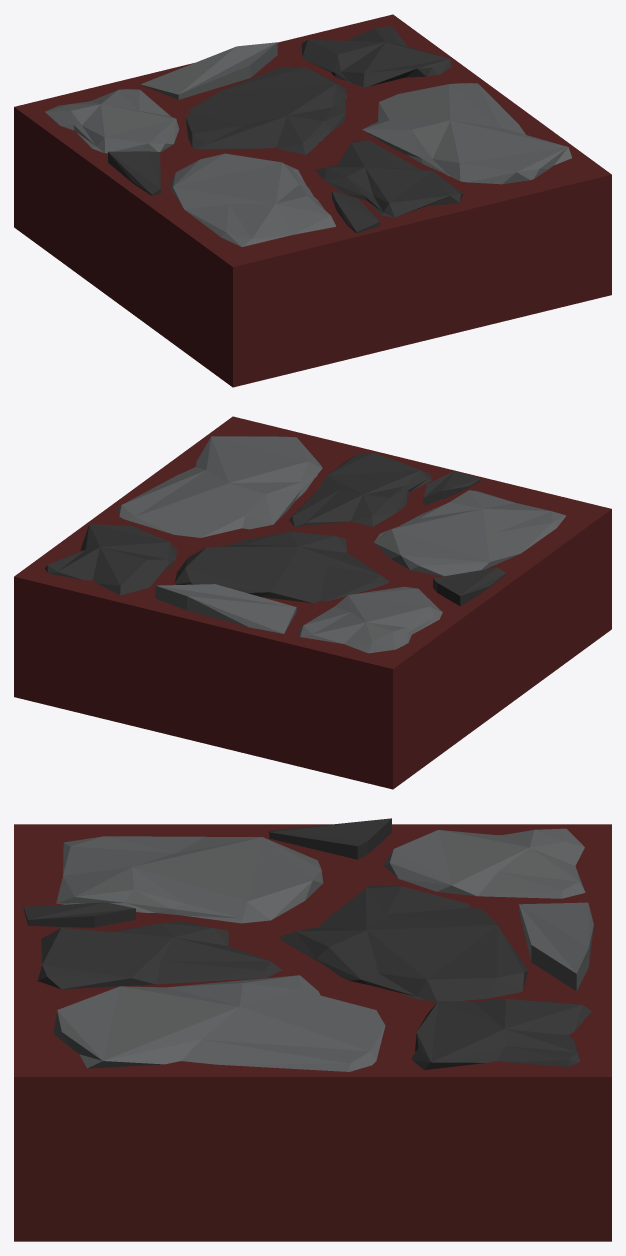
The model's file is Ground_Tiles_Large_06.FBX.
The picture shows the model from 3 angles, top to bottom: view 1: azimuth 30°, elevation 25°; view 2: azimuth 150°, elevation 25°; view 3: azimuth 270°, elevation 25°; orthographic projection. The views are drawn at different scales.
Visible parts, largest first — view 1: Ground_Tiles_Large_06; view 2: Ground_Tiles_Large_06; view 3: Ground_Tiles_Large_06.
Boxes of the visible parts, left/top/right/bottom form: Ground_Tiles_Large_06: left=14, top=14, right=611, bottom=387; Ground_Tiles_Large_06: left=14, top=416, right=611, bottom=789; Ground_Tiles_Large_06: left=14, top=818, right=611, bottom=1241.
Bounding box in the file's own units: 100 × 34 × 100.
